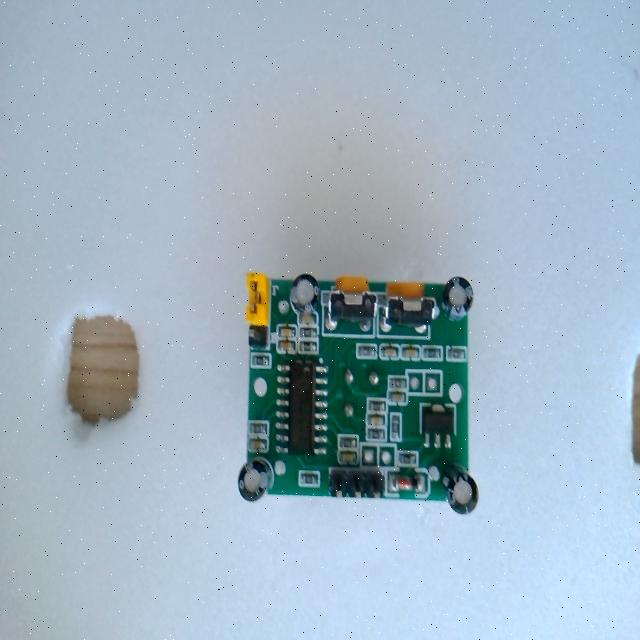Electrolytic capacitor: (444, 464, 479, 516), (441, 276, 475, 322), (238, 458, 272, 502), (290, 272, 320, 316)
IC: (273, 361, 325, 453)
